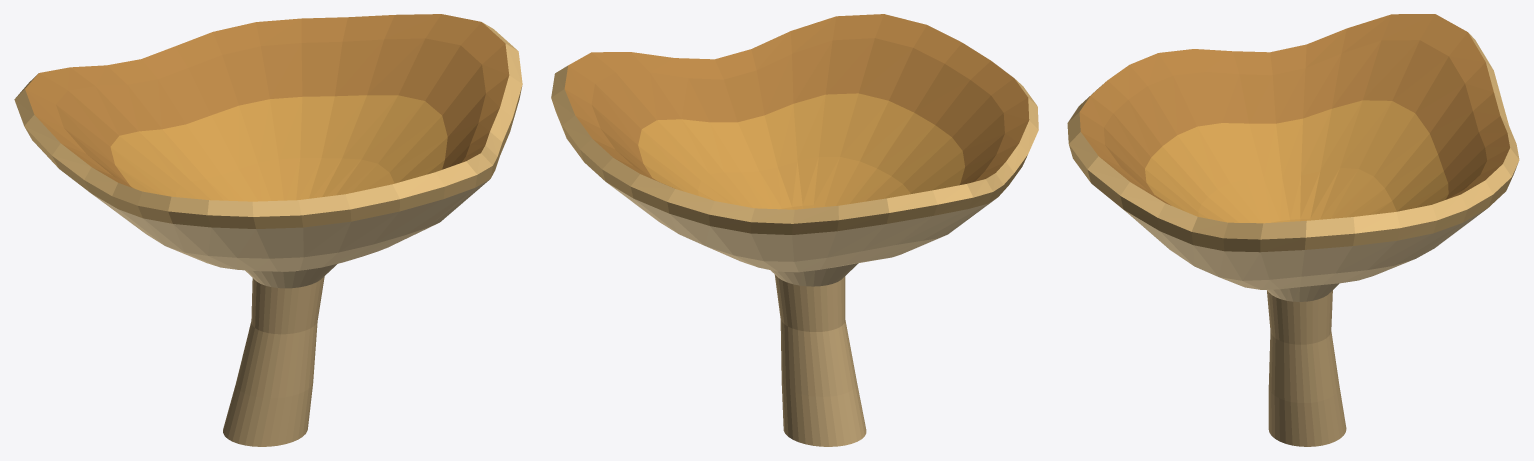
3 views of the same model, side by side, from view 1: azimuth 30°, elevation 25°; view 2: azimuth 150°, elevation 25°; view 3: azimuth 270°, elevation 25° (orthographic). The views are drawn at different scales.
Visible parts, largest first — view 1: Continuous_WavyFunnelAndStem; view 2: Continuous_WavyFunnelAndStem; view 3: Continuous_WavyFunnelAndStem.
Boxes of the visible parts, box(x1,y1,x2,y2) form: Continuous_WavyFunnelAndStem: box(14, 14, 522, 446); Continuous_WavyFunnelAndStem: box(551, 14, 1038, 446); Continuous_WavyFunnelAndStem: box(1067, 14, 1519, 446).
Size of the model in its own units: 0.6553 by 0.4686 by 0.5806.
